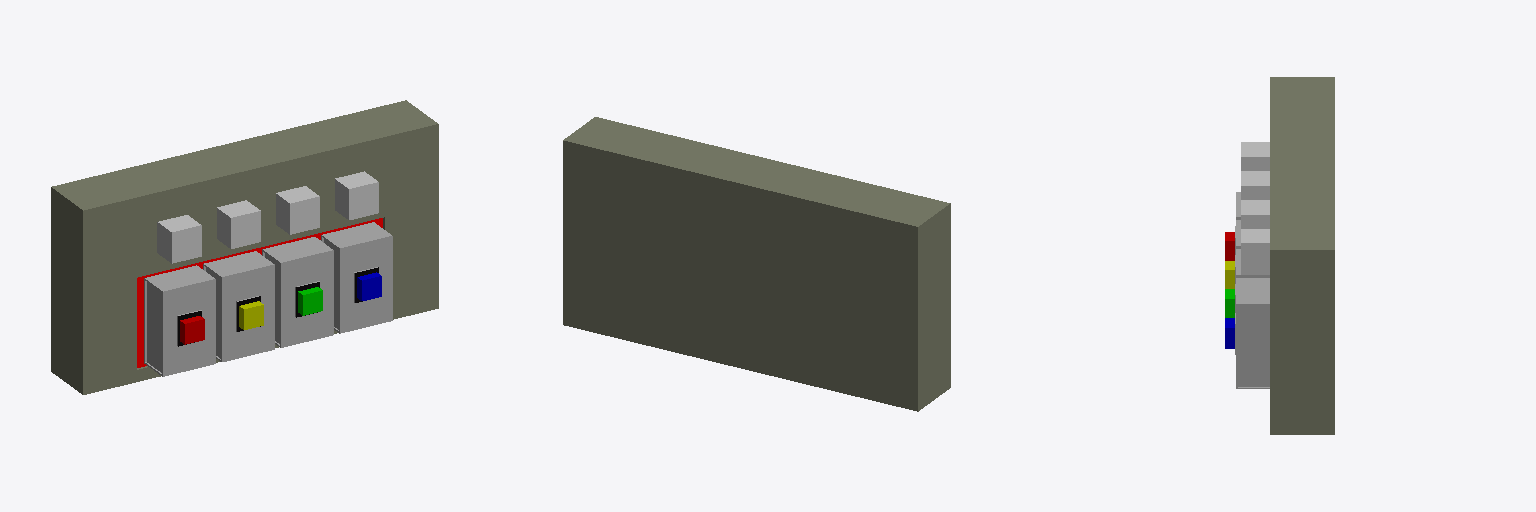
The model's file is circuitbreaker.obj.
3 views of the same model, side by side, from view 1: azimuth 30°, elevation 25°; view 2: azimuth 150°, elevation 25°; view 3: azimuth 270°, elevation 25° (orthographic).
Visible parts, largest first — view 1: Cube.001, Cube.002, Plane, Plane.002, Plane.003, Plane.001, Cube.007_Cube.010, Cube.008_Cube.011, Cube.009_Cube.012, Cube.010_Cube.013, Cube.004_Cube.007, Cube.006_Cube.009 (+2 smaller); view 2: Cube.001; view 3: Cube.001, Cube.002, Cube.010_Cube.013, Cube.007_Cube.010, Cube.008_Cube.011, Cube.009_Cube.012.
Boxes of the visible parts, x1,y1,x2,y2 form: Cube.001: [51, 100, 438, 394]; Cube.002: [144, 222, 392, 376]; Plane: [172, 226, 201, 263]; Plane.002: [290, 197, 319, 234]; Plane.003: [349, 182, 378, 219]; Plane.001: [231, 211, 260, 248]; Cube.007_Cube.010: [157, 215, 201, 263]; Cube.008_Cube.011: [217, 200, 260, 248]; Cube.009_Cube.012: [276, 186, 319, 234]; Cube.010_Cube.013: [335, 171, 377, 219]; Cube.004_Cube.007: [239, 301, 263, 329]; Cube.006_Cube.009: [357, 272, 381, 300]; Cube.001: [563, 117, 950, 411]; Cube.001: [1270, 77, 1334, 434]; Cube.002: [1235, 192, 1269, 388]; Cube.010_Cube.013: [1241, 229, 1269, 274]; Cube.007_Cube.010: [1241, 142, 1269, 170]; Cube.008_Cube.011: [1241, 171, 1269, 199]; Cube.009_Cube.012: [1241, 200, 1269, 228].
Bounding box in the file's own units: 6.02 × 2.99 × 1.61.